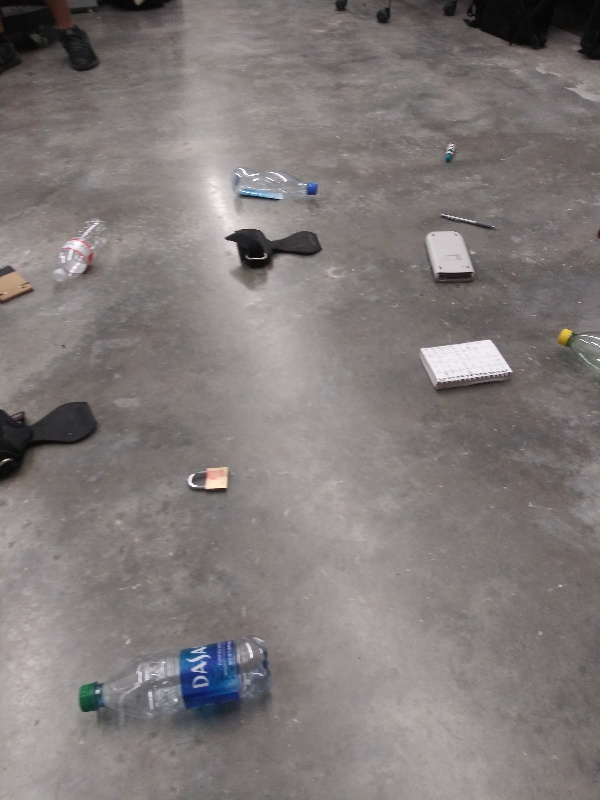bottle: (73, 628, 281, 743), (48, 211, 120, 294), (225, 159, 322, 211), (551, 321, 600, 386)
